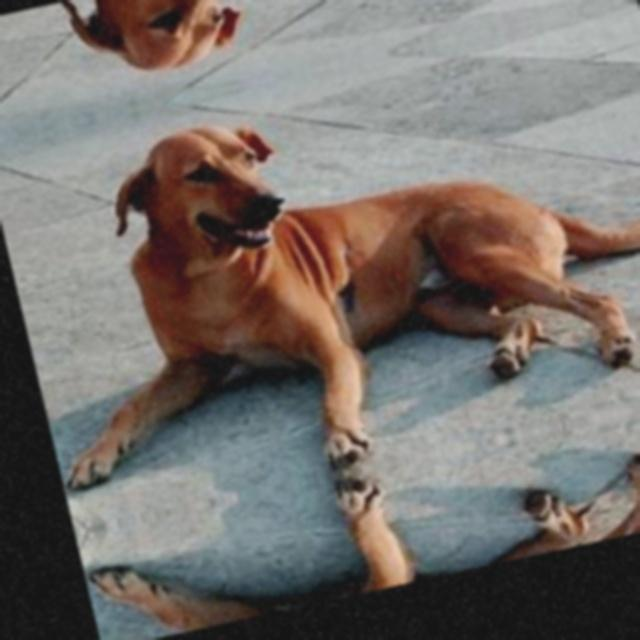dog: (44, 22, 640, 520), (132, 393, 640, 638), (11, 0, 608, 110)
